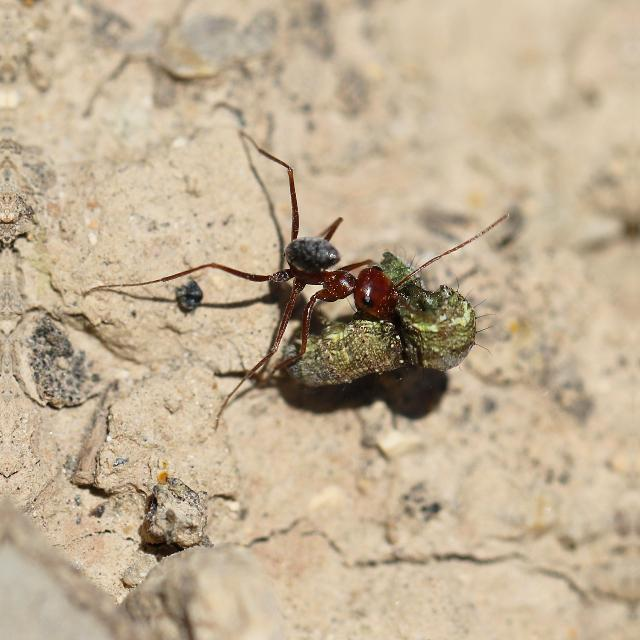Cataglyphis: (238, 199, 428, 347)
